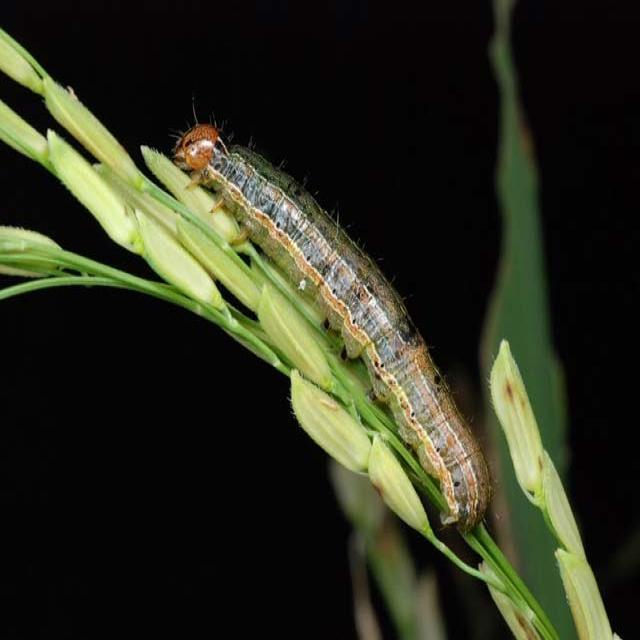pest-armyworm: (176, 115, 494, 541)
